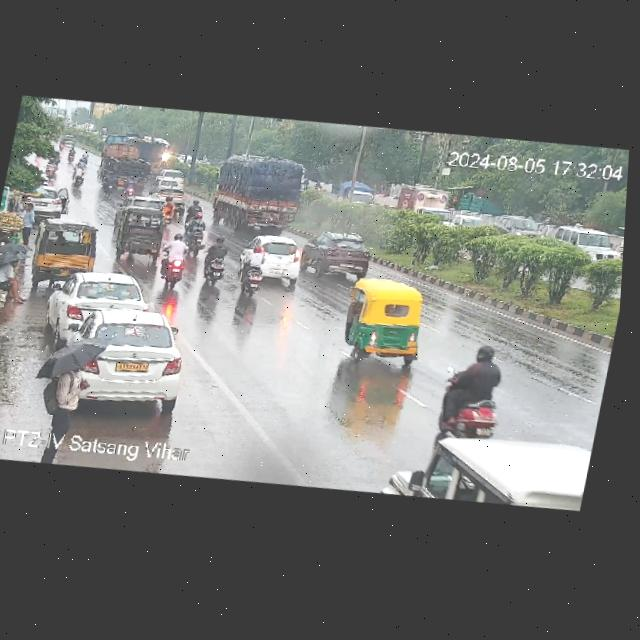bus: (411, 421, 593, 520)
car: (56, 303, 192, 414), (328, 267, 441, 371), (45, 263, 153, 338), (28, 216, 107, 290), (106, 197, 175, 267), (301, 227, 379, 283), (548, 219, 625, 265), (14, 181, 77, 222), (496, 210, 547, 239), (443, 210, 488, 233), (151, 166, 189, 193), (615, 221, 625, 263)
motorcycle: (427, 338, 514, 445), (157, 231, 190, 292), (238, 246, 274, 298), (199, 233, 233, 282), (181, 208, 214, 252), (99, 166, 121, 197), (160, 196, 181, 225), (55, 132, 82, 151), (185, 197, 199, 228), (124, 171, 139, 194)
person: (41, 355, 96, 433), (0, 254, 38, 309), (6, 197, 45, 245)
truck: (211, 147, 316, 242)
